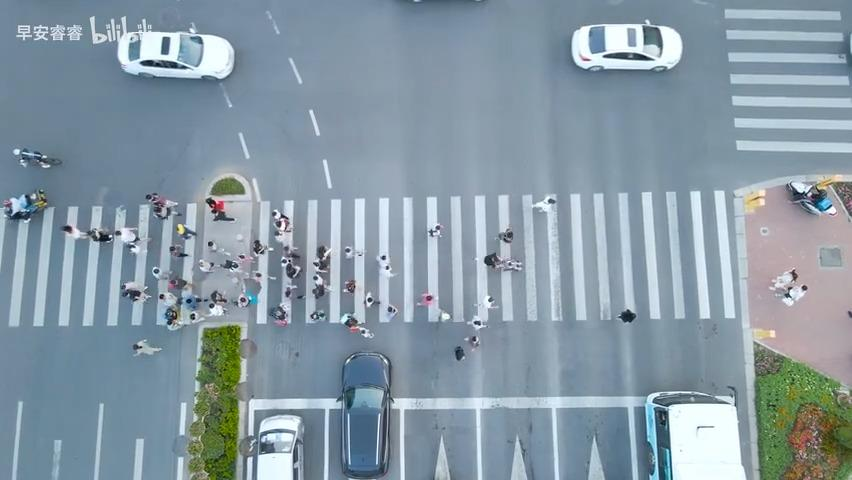Civilian: (2, 188, 47, 222), (12, 147, 62, 168), (127, 336, 159, 366), (168, 212, 198, 244), (482, 252, 522, 275), (119, 279, 148, 309), (265, 294, 291, 327), (769, 268, 798, 294), (205, 197, 235, 221), (195, 252, 222, 278), (474, 290, 503, 313), (140, 187, 171, 208), (144, 261, 175, 282), (59, 220, 83, 247), (250, 235, 274, 260), (413, 285, 437, 309), (231, 287, 256, 310), (114, 226, 144, 245), (271, 209, 293, 234), (164, 241, 189, 263), (88, 224, 108, 250), (382, 301, 405, 323), (161, 307, 181, 332), (281, 260, 302, 283), (277, 241, 300, 262), (449, 340, 469, 364), (206, 297, 227, 319), (360, 287, 381, 309), (217, 257, 242, 275), (343, 239, 361, 263), (376, 253, 394, 277), (531, 195, 556, 212), (312, 244, 332, 265), (310, 279, 328, 302), (186, 305, 203, 329), (250, 267, 270, 287), (203, 236, 224, 255), (469, 314, 490, 333), (309, 308, 331, 326), (784, 284, 807, 301), (157, 289, 178, 307), (339, 311, 360, 329), (354, 325, 373, 344), (463, 336, 488, 350), (496, 227, 513, 243), (282, 284, 299, 300), (341, 281, 360, 295), (427, 223, 444, 238)
